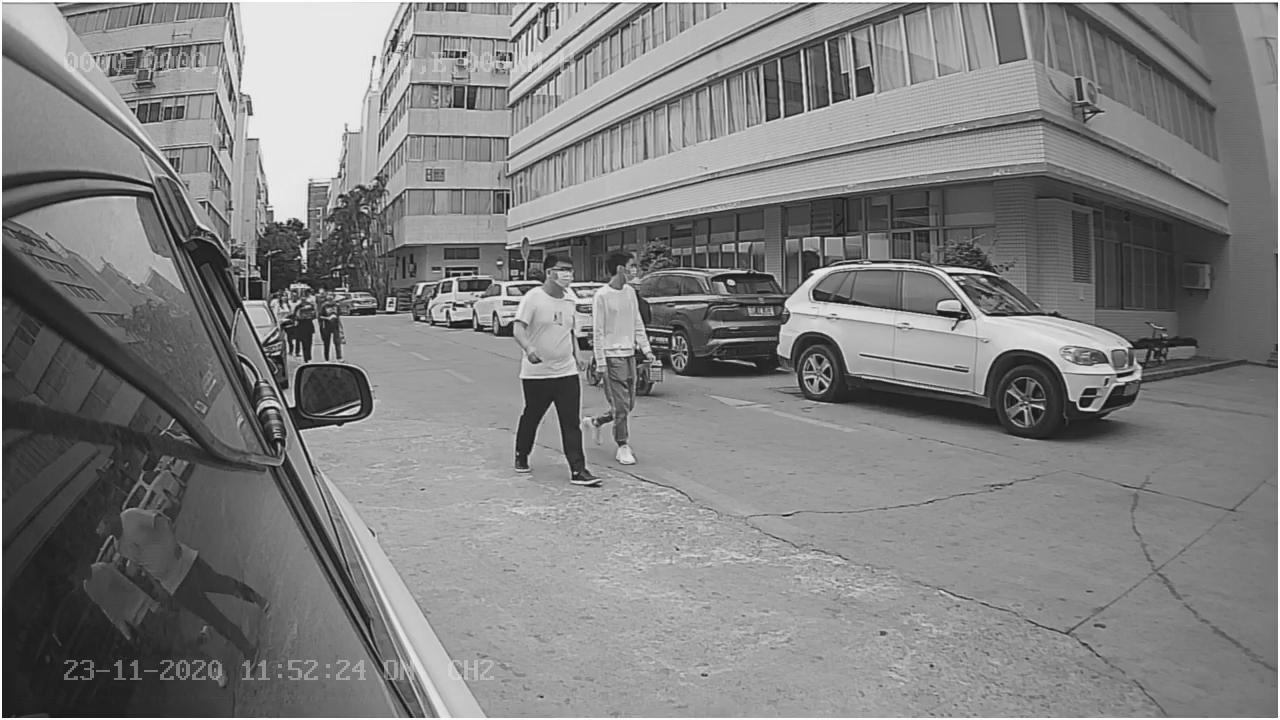person: (511, 250, 592, 485), (594, 251, 655, 460)
